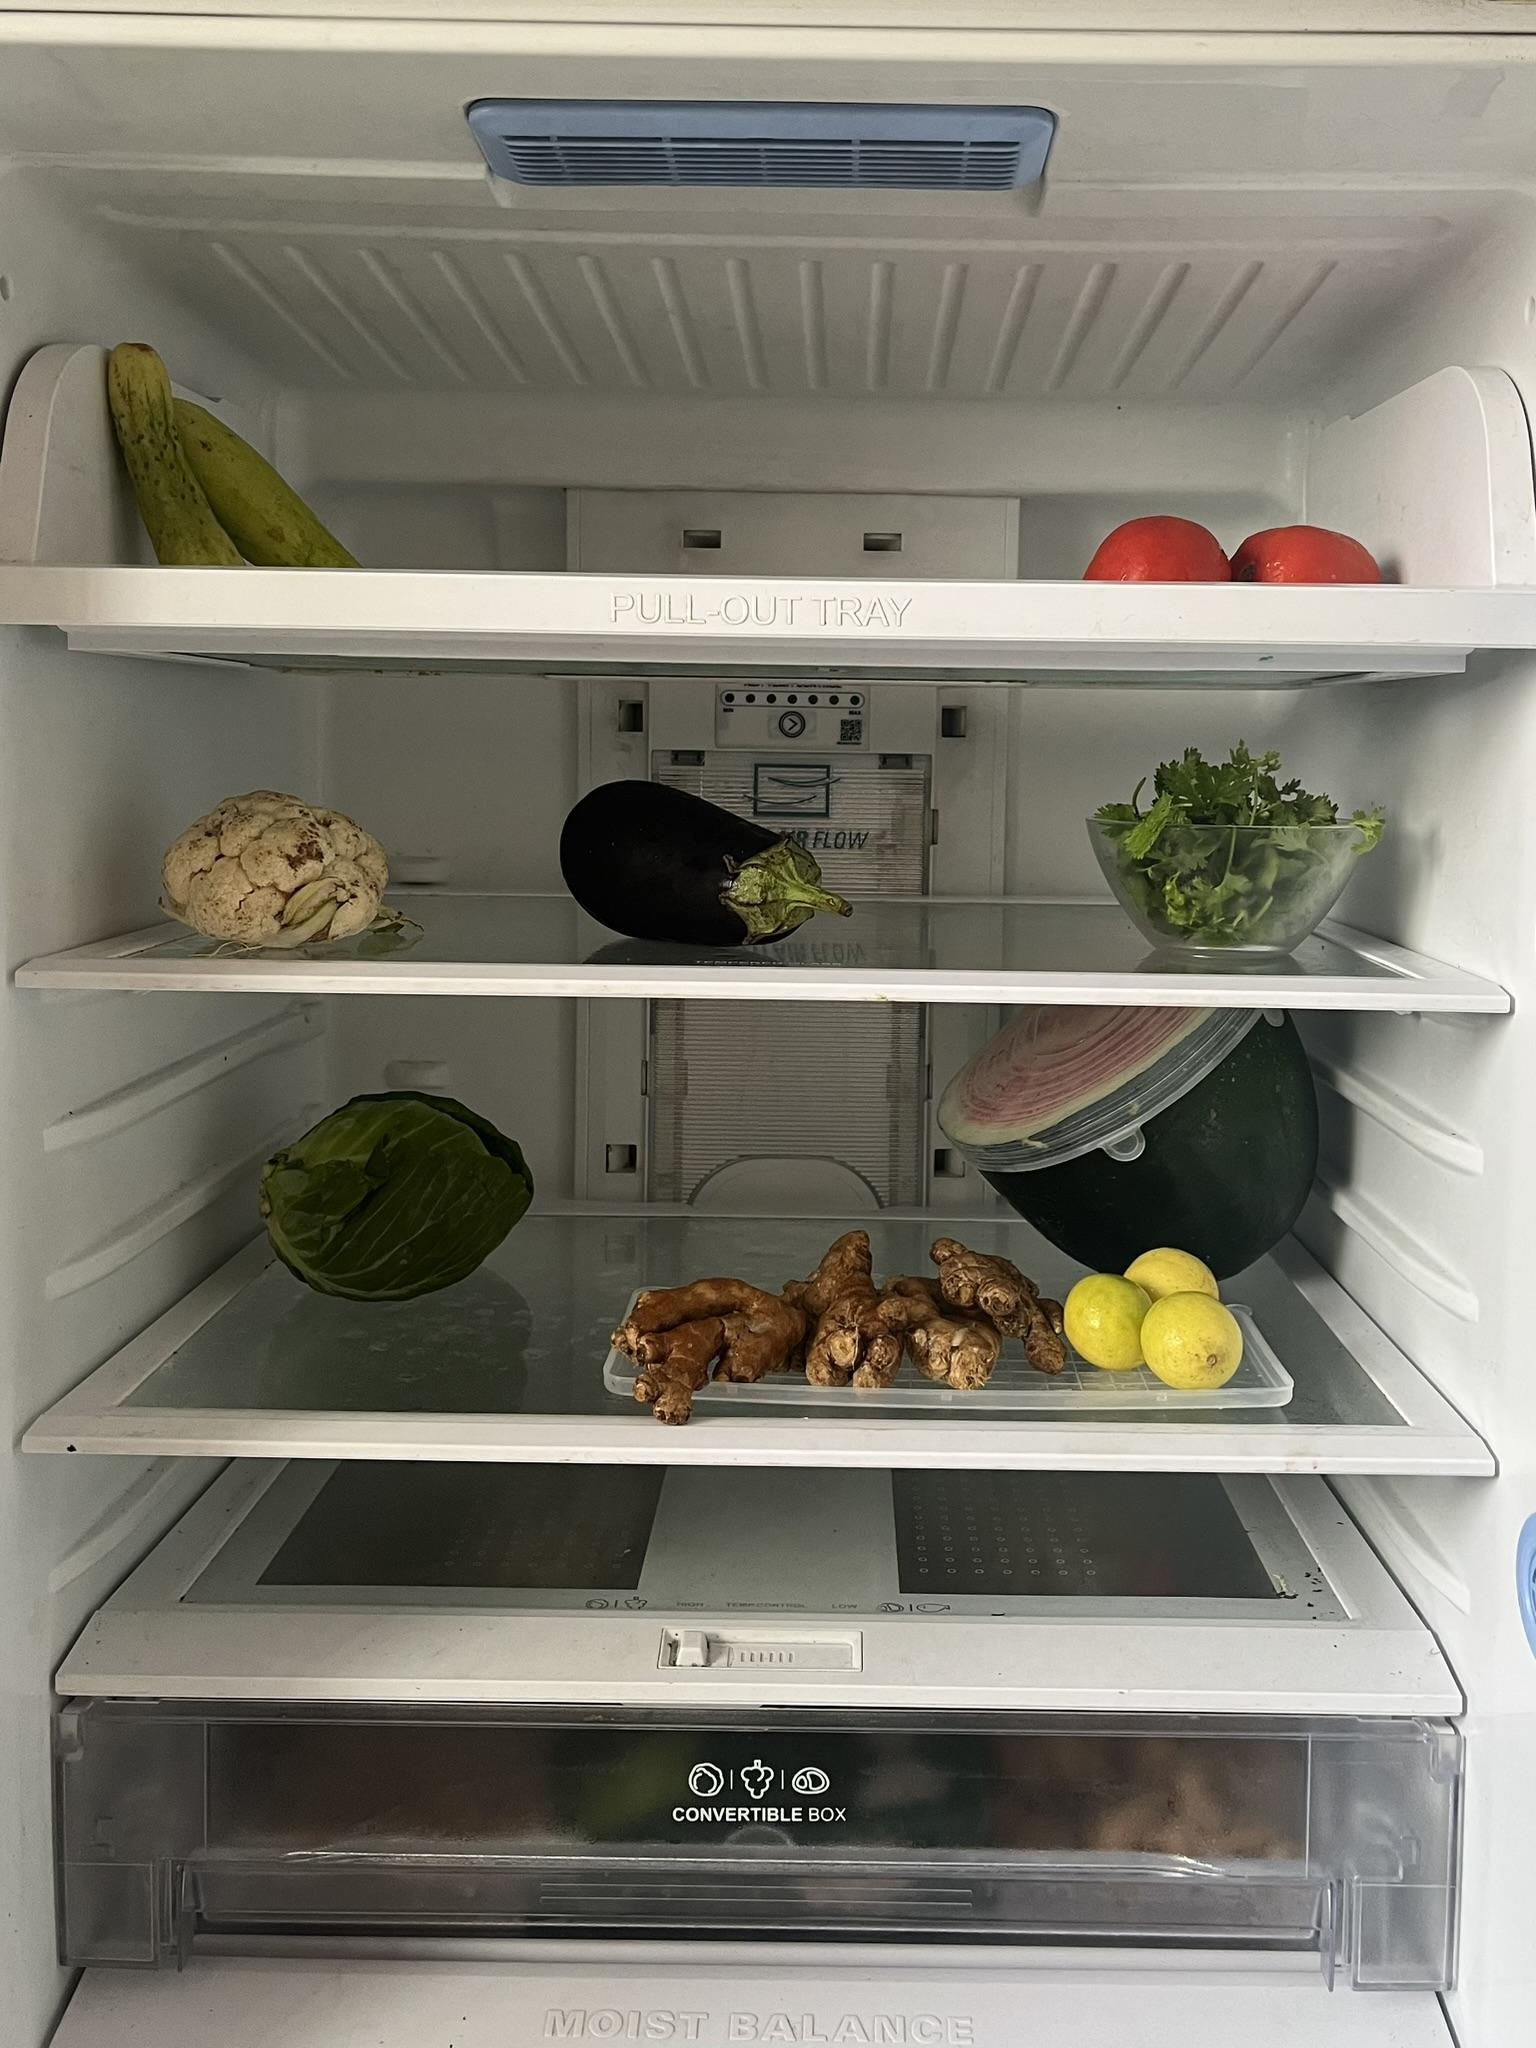bringal: (563, 774, 854, 947)
cabbage: (253, 1084, 534, 1300)
cauliflower: (163, 790, 387, 947)
coriander: (1097, 734, 1363, 947)
cucumber: (106, 337, 363, 563)
ginger: (626, 1230, 1066, 1403)
lemon: (1060, 1247, 1244, 1377)
tomato: (1083, 497, 1391, 587)
watermelon: (960, 1003, 1320, 1280)
